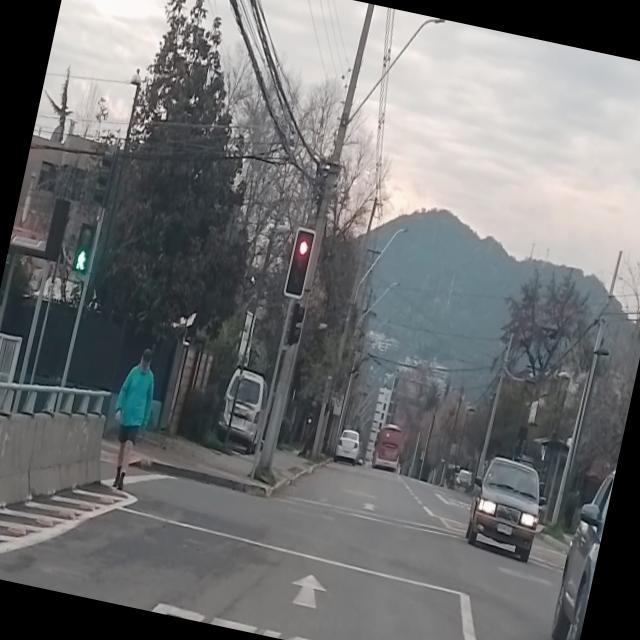person: (95, 346, 162, 496)
